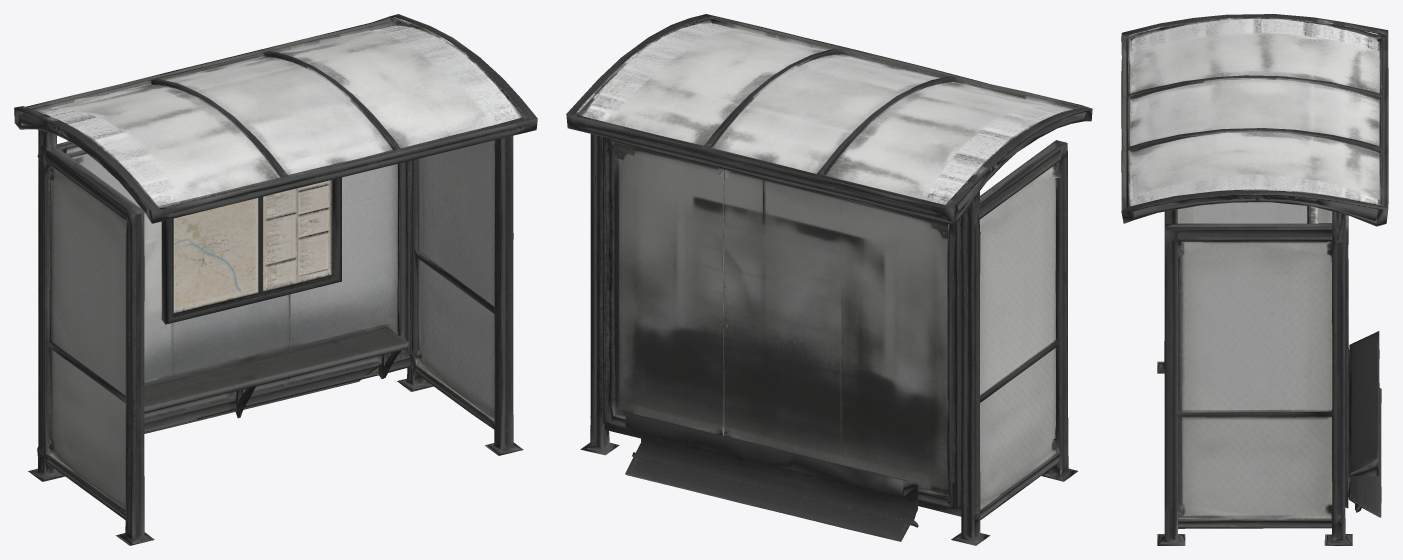
The model's file is bus_stop.glb.
The picture shows the model from 3 angles, left to right: view 1: azimuth 30°, elevation 25°; view 2: azimuth 150°, elevation 25°; view 3: azimuth 270°, elevation 25°; orthographic projection. The views are drawn at different scales.
Visible parts, largest first — view 1: frame; view 2: frame; view 3: frame.
Part boxes in pixels (bbox=[...]): frame: bbox=[14, 14, 537, 545]; frame: bbox=[566, 14, 1092, 545]; frame: bbox=[1121, 14, 1388, 545].
Bounding box in the file's own units: 4 × 3.57 × 2.46.
1 material, 1 textured.
